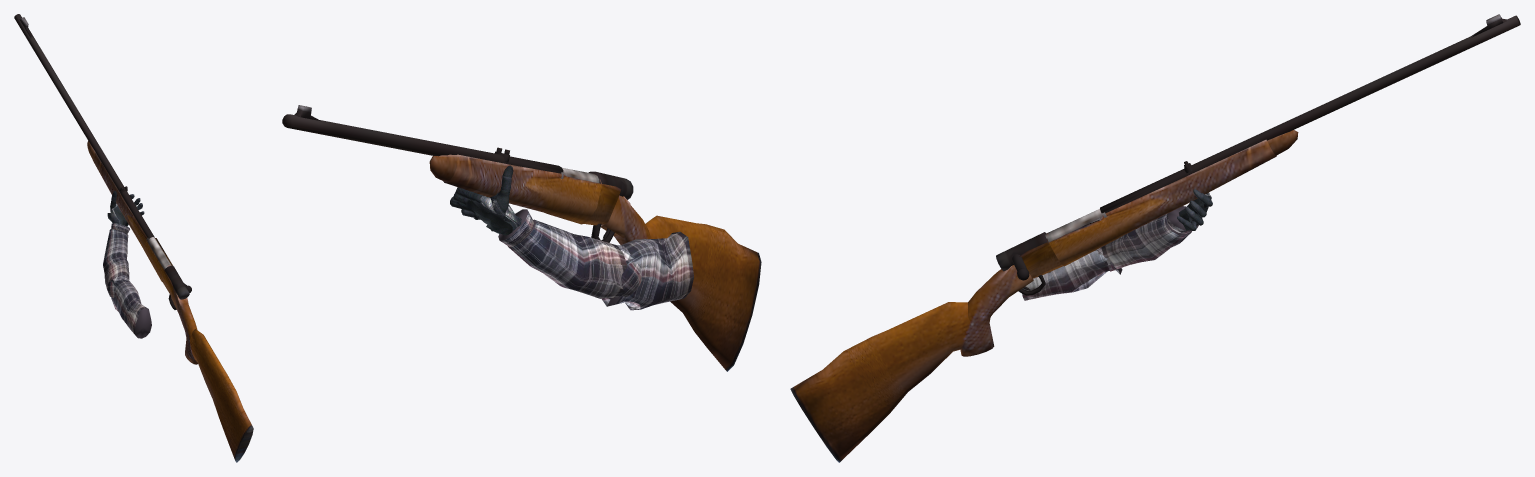
Rendered from cz550_ads_fire.fbx.
3 views of the same model, side by side, from view 1: azimuth 30°, elevation 25°; view 2: azimuth 150°, elevation 25°; view 3: azimuth 270°, elevation 25° (orthographic). The views are drawn at different scales.
Parts seen in each view (by area): view 1: CZ550_stock, larm, CZ550_barrel, CZ550_grip, lhand, CZ550_bolt, CZ550_breech; view 2: larm, CZ550_stock, CZ550_grip, CZ550_barrel, lhand, CZ550_bolt; view 3: CZ550_stock, CZ550_grip, larm, CZ550_barrel, CZ550_bolt, lhand.
Boxes of the visible parts, left/top/right/bottom form: CZ550_stock: left=171, top=288, right=253, bottom=462; larm: left=103, top=223, right=151, bottom=338; CZ550_barrel: left=14, top=14, right=154, bottom=238; CZ550_grip: left=87, top=141, right=173, bottom=295; lhand: left=107, top=191, right=144, bottom=226; CZ550_bolt: left=164, top=265, right=191, bottom=299; CZ550_breech: left=146, top=237, right=171, bottom=269; larm: left=498, top=209, right=693, bottom=310; CZ550_stock: left=601, top=195, right=761, bottom=371; CZ550_grip: left=429, top=154, right=621, bottom=226; CZ550_barrel: left=282, top=114, right=563, bottom=173; lhand: left=450, top=165, right=521, bottom=235; CZ550_bolt: left=588, top=171, right=633, bottom=199; CZ550_stock: left=790, top=265, right=1033, bottom=462; CZ550_grip: left=1019, top=130, right=1298, bottom=278; larm: left=1022, top=206, right=1198, bottom=300; CZ550_barrel: left=1100, top=15, right=1520, bottom=213; CZ550_bolt: left=996, top=232, right=1047, bottom=280; lhand: left=1177, top=189, right=1212, bottom=232.
Size of the model in its own units: 11.13 by 47.66 by 70.43.
3 materials, 3 textured.
